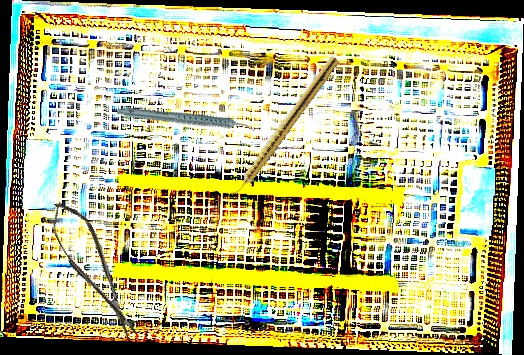Handpiece: (226, 53, 341, 202), (115, 80, 256, 162)
Micro Scissor: (42, 193, 146, 348)
